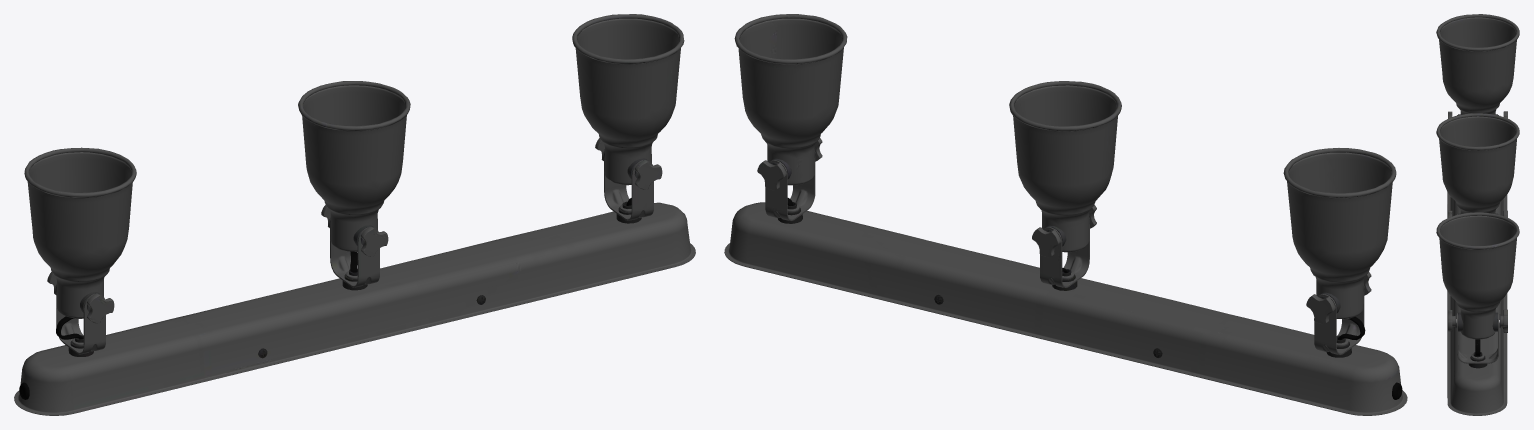
Rendered from hektar_lampa_sufitowa_3_reflektory_50297485.glb.
The picture shows the model from 3 angles, left to right: view 1: azimuth 30°, elevation 25°; view 2: azimuth 150°, elevation 25°; view 3: azimuth 270°, elevation 25°; orthographic projection. The views are drawn at different scales.
Parts seen in each view (by area): view 1: hektar_lampa_sufitowa_3_reflektory_50297485; view 2: hektar_lampa_sufitowa_3_reflektory_50297485; view 3: hektar_lampa_sufitowa_3_reflektory_50297485.
Boxes of the visible parts, x1=… form: hektar_lampa_sufitowa_3_reflektory_50297485: x1=14, y1=14, x2=695, y2=415; hektar_lampa_sufitowa_3_reflektory_50297485: x1=724, y1=14, x2=1407, y2=415; hektar_lampa_sufitowa_3_reflektory_50297485: x1=1436, y1=14, x2=1519, y2=415.
Size of the model in its own units: 0.614 by 0.1941 by 0.0893.
Materials: 1 (1 with a texture image).
